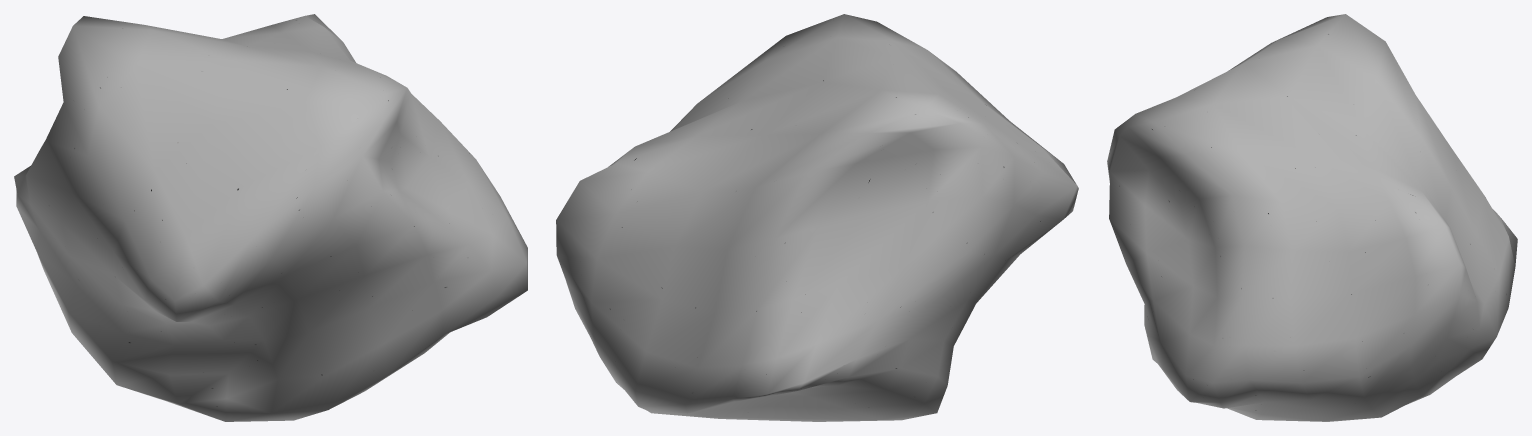
File: WaxWorld_Boulder_2.fbx
3 renders of one model, left to right at view 1: azimuth 30°, elevation 25°; view 2: azimuth 150°, elevation 25°; view 3: azimuth 270°, elevation 25°, orthographic. The views are drawn at different scales.
Parts seen in each view (by area): view 1: Box001; view 2: Box001; view 3: Box001.
Boxes of the visible parts, x1,y1,x2,y2 form: Box001: (14,14,527,421); Box001: (556,14,1078,421); Box001: (1107,14,1517,421).
Bounding box in the file's own units: 157 × 133 × 157.
1 material, 1 textured.
